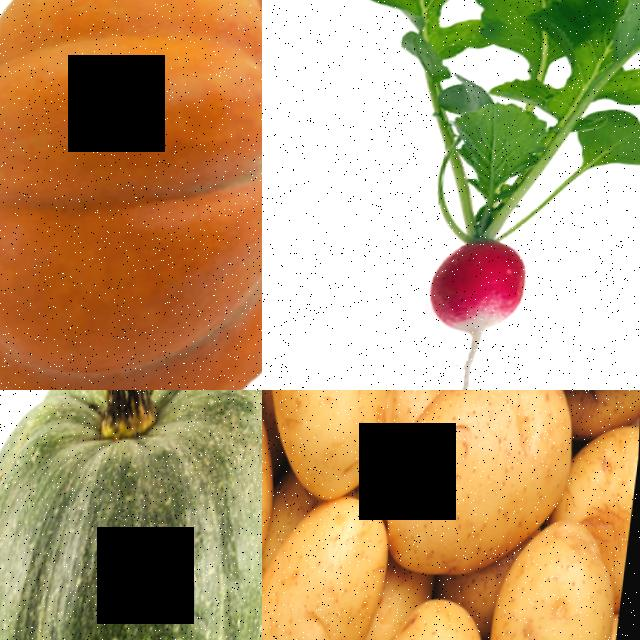potato: (378, 390, 589, 603), (262, 490, 398, 640), (269, 390, 415, 518), (481, 519, 634, 640), (347, 590, 497, 640)
pumpkin: (0, 0, 262, 390), (0, 390, 262, 640)
radishes: (416, 141, 551, 357)
